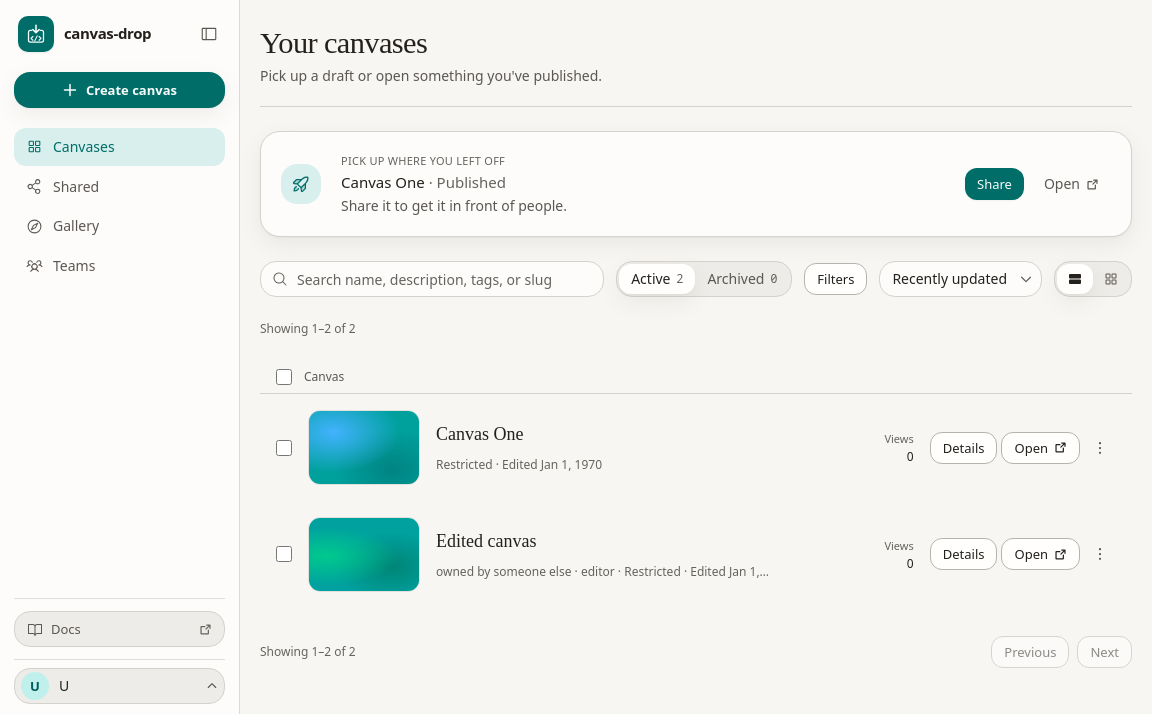
Your canvases — server-side filters (plan 005) › clears bulk selection when changing the ownership filter
What coordinates should you click on to do the following:
click the checkbox named "Select Canvas One"
I would click on:
 (284, 448)
Its box is [276, 440, 292, 456].
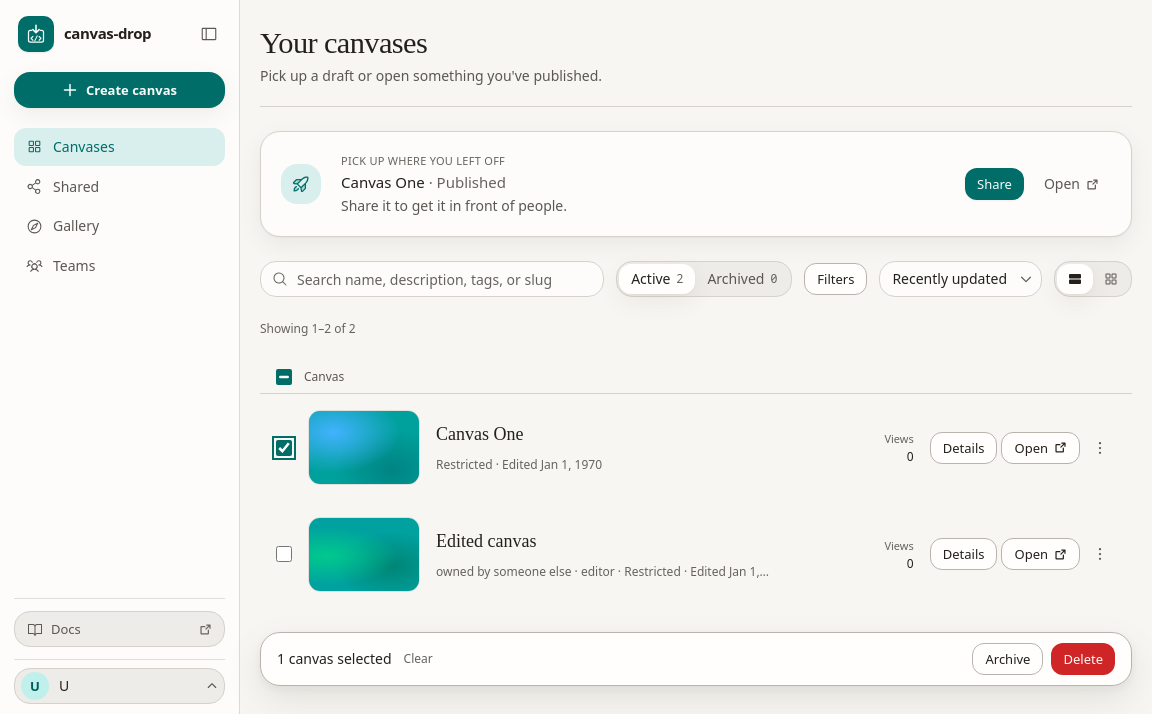
Now the text "1 canvas selected" is shown, box [277, 649, 392, 669]
What coordinates should you click on to do the following:
click the button "Filters"
I would click on:
 (836, 279)
Its box is [804, 263, 867, 295].
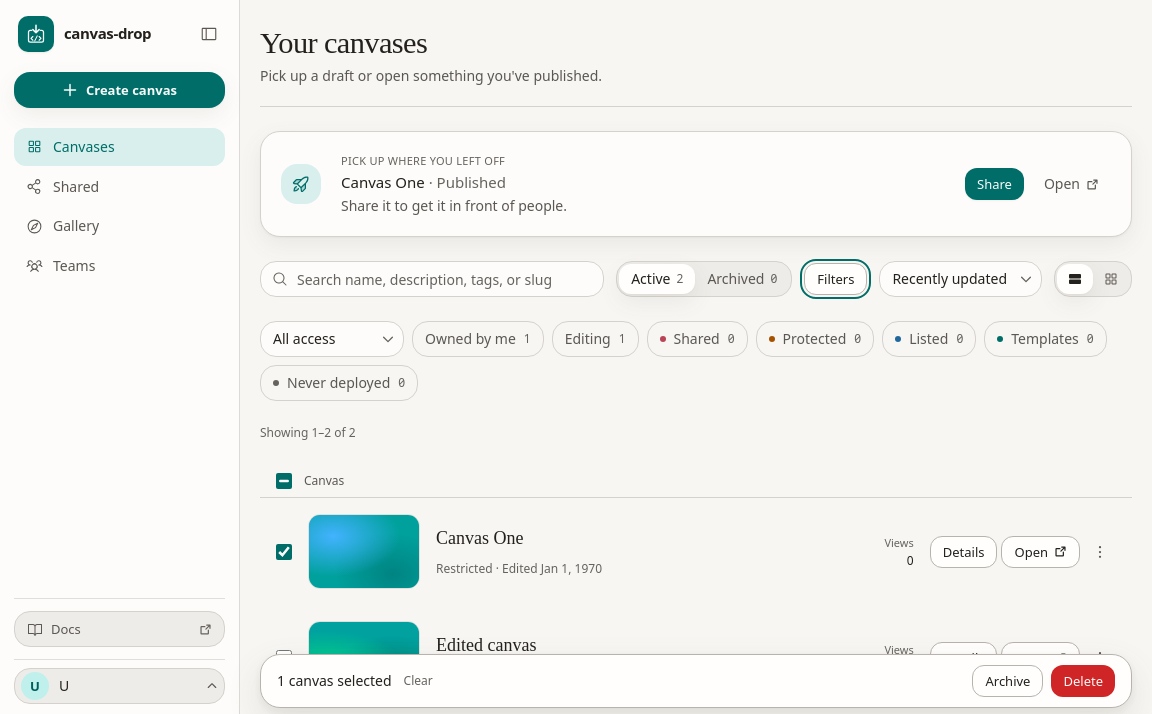
What coordinates should you click on to do the following:
click the button "Editing 1"
I would click on:
 (595, 339)
Its box is [552, 321, 638, 357].
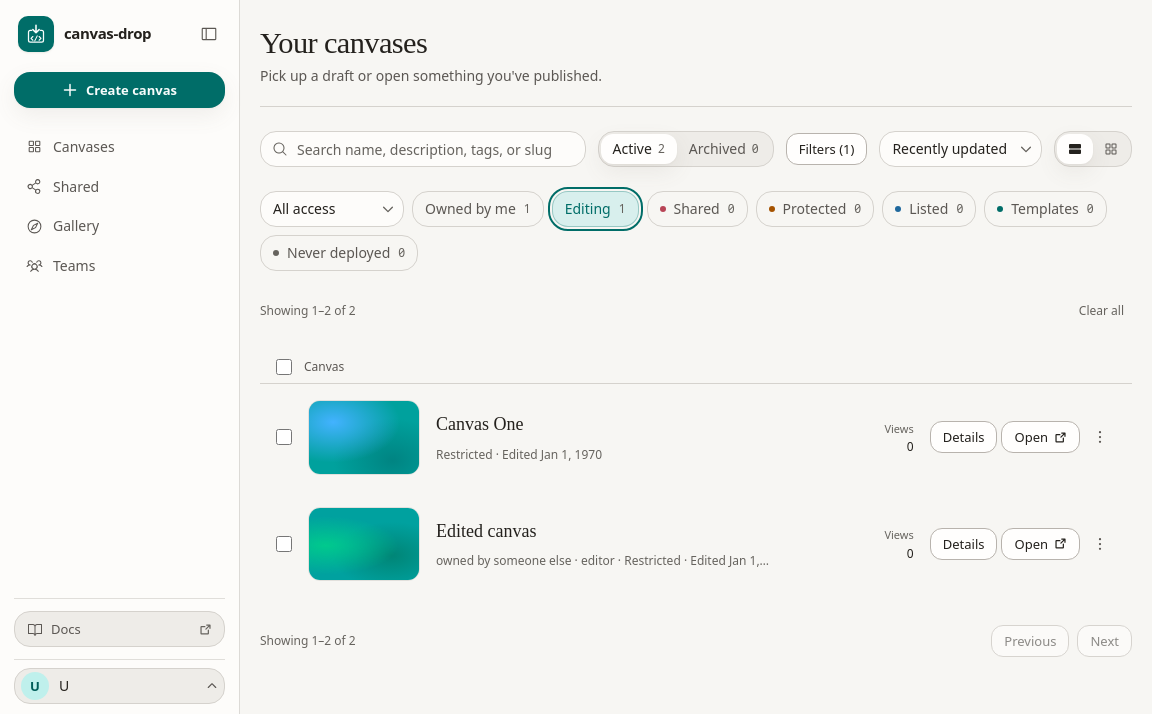
Now the text "1 canvas selected" is gone
